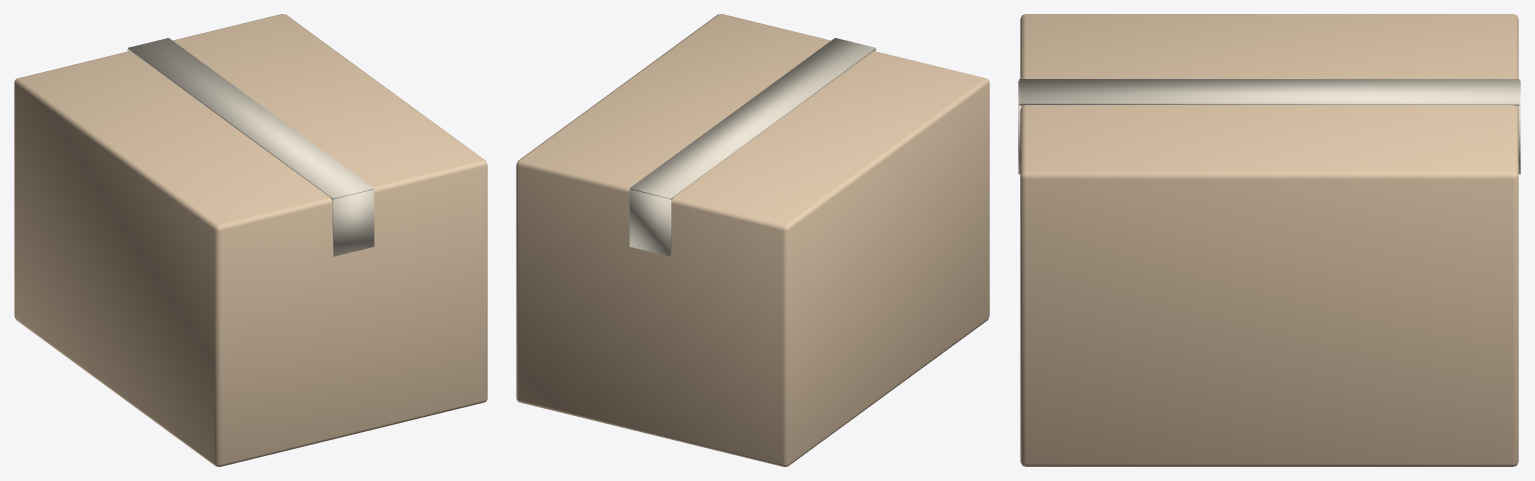
Rendered from cardboard_box_01.glb.
The picture shows the model from 3 angles, left to right: view 1: azimuth 30°, elevation 25°; view 2: azimuth 150°, elevation 25°; view 3: azimuth 270°, elevation 25°; orthographic projection. The views are drawn at different scales.
Visible parts, largest first — view 1: cardboard_box_01_box, cardboard_box_01_tape, cardboard_box_01_tape_2; view 2: cardboard_box_01_box, cardboard_box_01_tape, cardboard_box_01_tape_1; view 3: cardboard_box_01_box, cardboard_box_01_tape.
Boxes of the visible parts, left/top/right/bottom form: cardboard_box_01_box: left=14, top=14, right=487, bottom=466; cardboard_box_01_tape: left=128, top=38, right=373, bottom=199; cardboard_box_01_tape_2: left=332, top=189, right=374, bottom=256; cardboard_box_01_box: left=516, top=14, right=989, bottom=466; cardboard_box_01_tape: left=630, top=38, right=875, bottom=199; cardboard_box_01_tape_1: left=629, top=189, right=671, bottom=256; cardboard_box_01_box: left=1020, top=14, right=1518, bottom=466; cardboard_box_01_tape: left=1019, top=79, right=1519, bottom=105.
Size of the model in its own units: 0.4 by 0.342 by 0.524.
